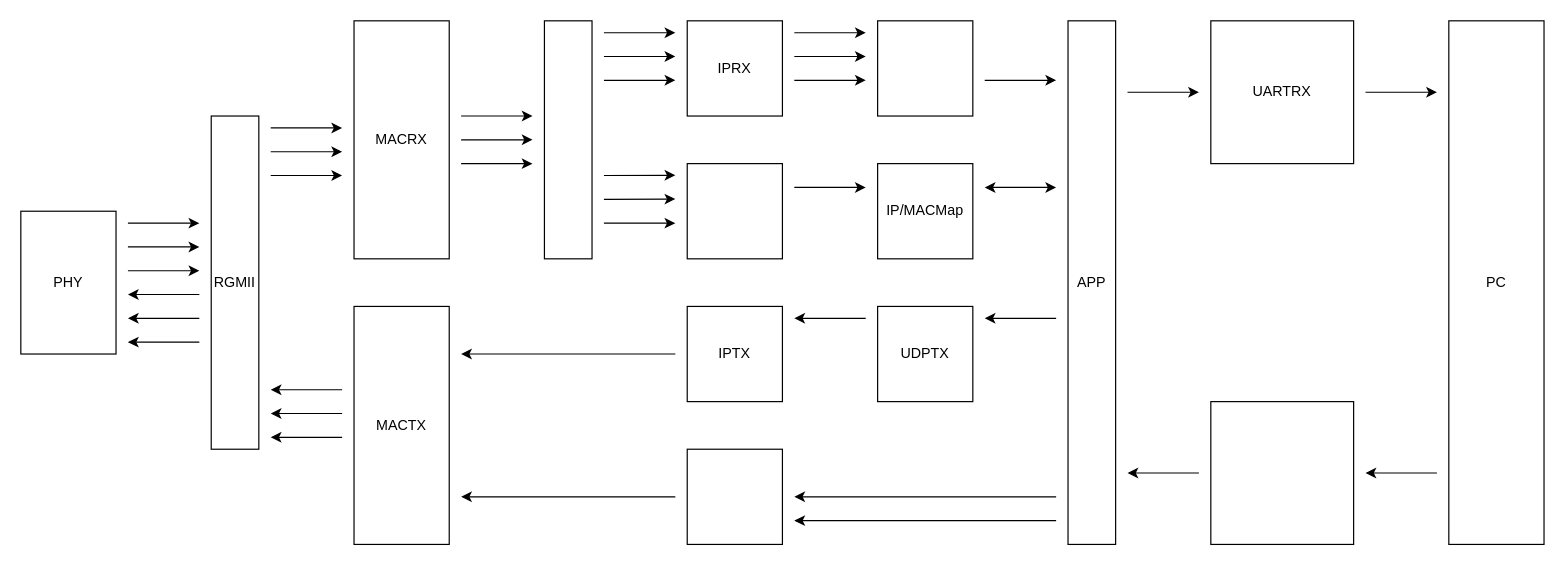
The diagram is 1565 pixels wide and 565 high, and some of its shapes have lost their labels. The shapes that lost their labels are listed below. From the top down, each one's centre as x and y in pixels, then its label:
At (924,68): "UDPRX".
At (567,139): "Arbiter".
At (734,210): "ARPRX".
At (1282,472): "UARTTX".
At (734,496): "ARPTX".
